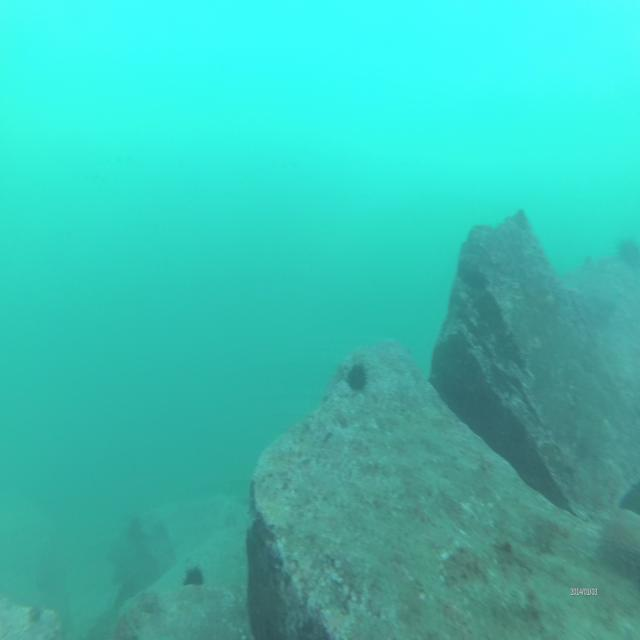echinus: (180, 560, 206, 593), (346, 360, 369, 392)
